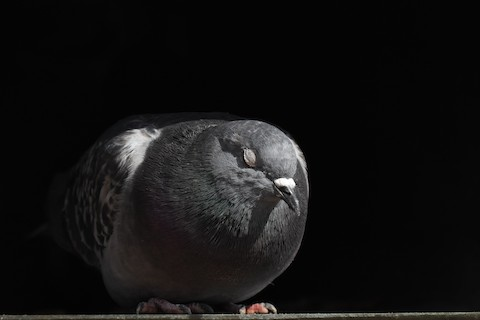pigeon: (43, 104, 312, 309)
